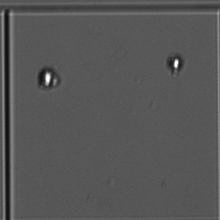Living Cell: (34, 63, 63, 98), (166, 52, 189, 83)
